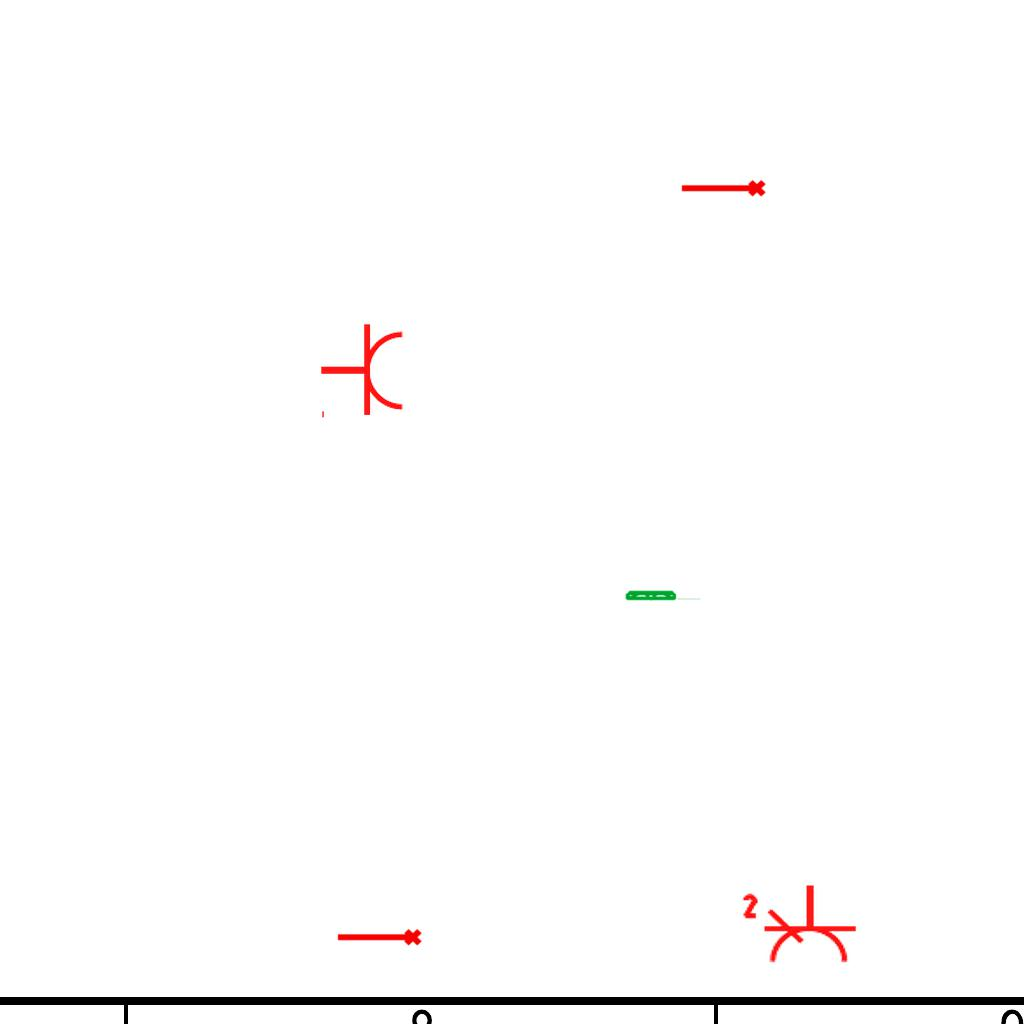ASR_Ansaugoeffnung: (679, 178, 767, 201), (335, 927, 423, 950)
Schukosteckdose_einfach: (319, 322, 406, 422)
Schukosteckdose_mehrfach: (740, 879, 861, 967)
Sicherheitsleuchte_Wandeinbau: (624, 589, 703, 601)
